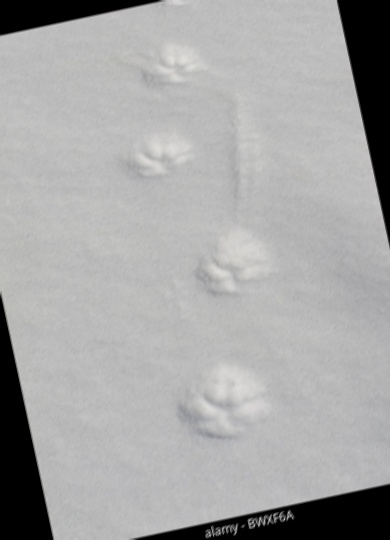fox: (154, 341, 295, 474), (170, 208, 292, 330)
